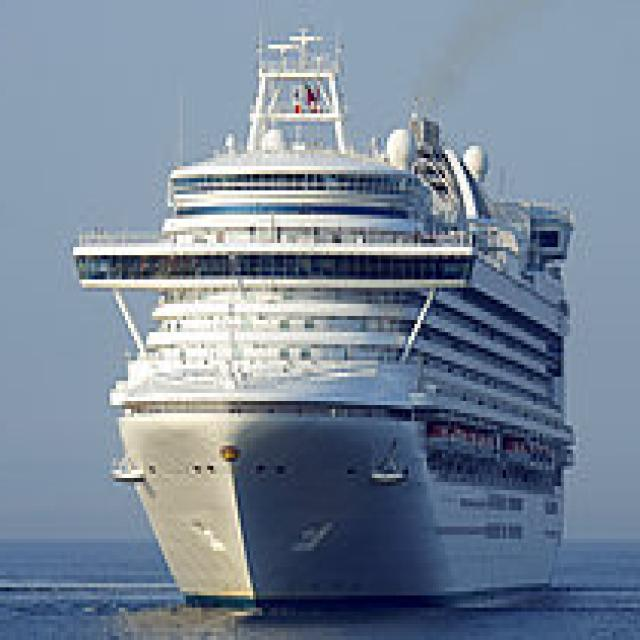Cargo: (73, 16, 585, 612)
